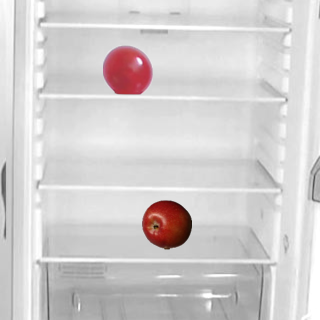Apple Braeburn: (141, 199, 191, 249)
Redcurrant: (102, 44, 152, 94)
